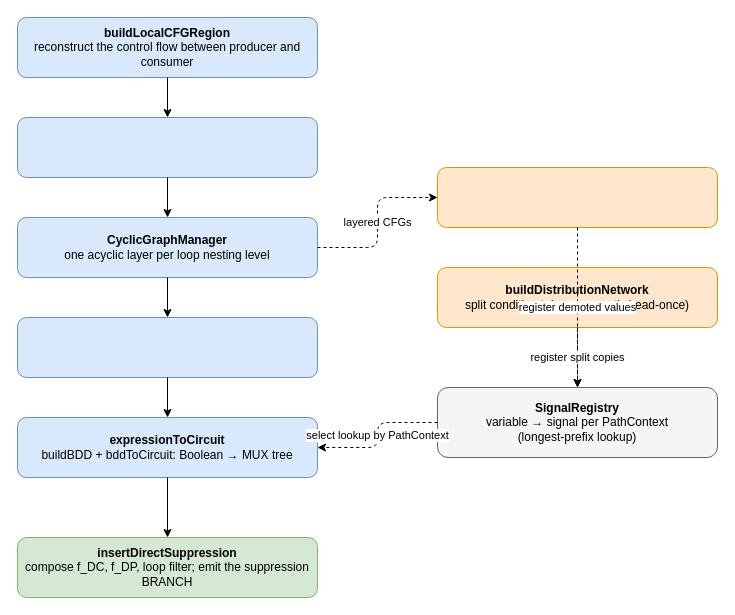
Some shapes in this 735 by 615 pixel diagram are drawn without their labels. The centre of each missing label's shape, as x and y in pixels:
buildDecisionGraph keep only the branches that decide delivery: the point at 167,147
CyclicDemotionHelper one representative token per loop level: the point at 577,197
enumeratePaths paths → f_cons ; f_supp = ¬f_cons: the point at 167,347
